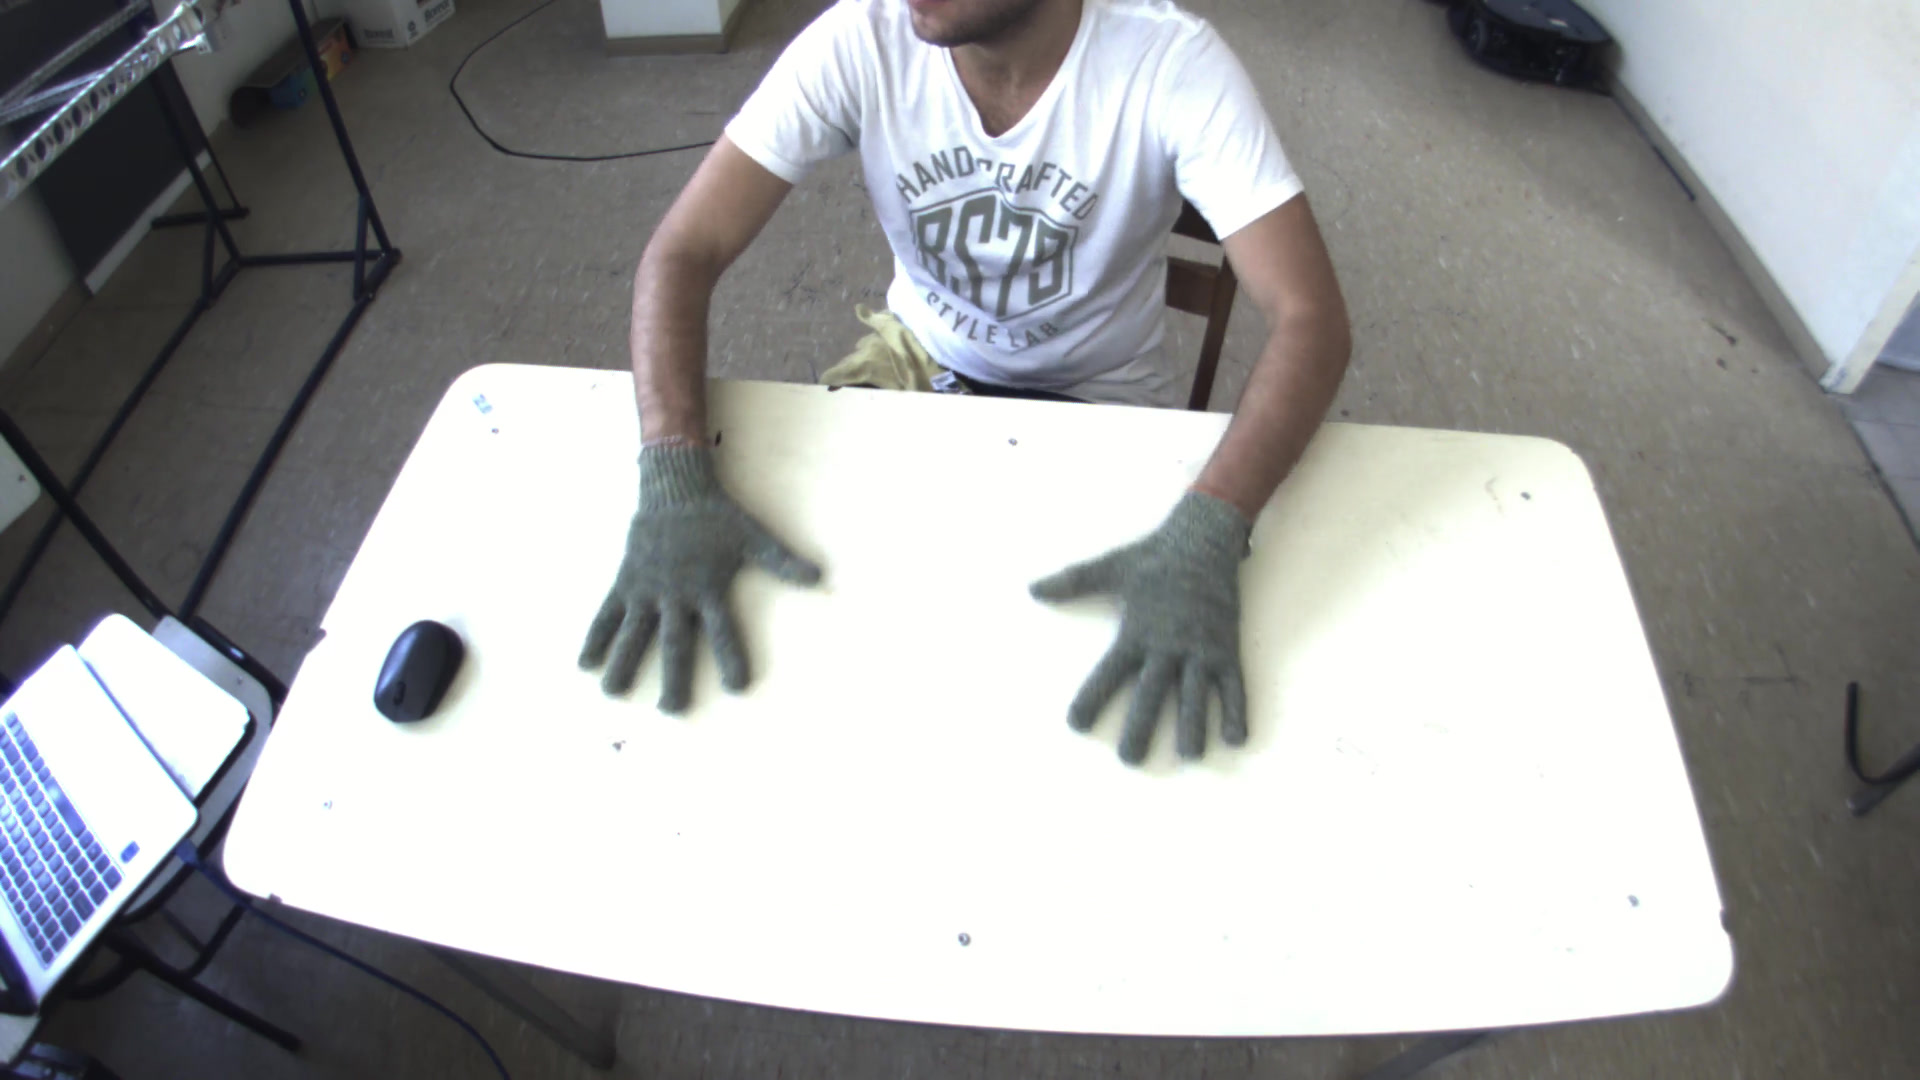hand: (568, 423, 827, 723), (1021, 488, 1278, 781)
